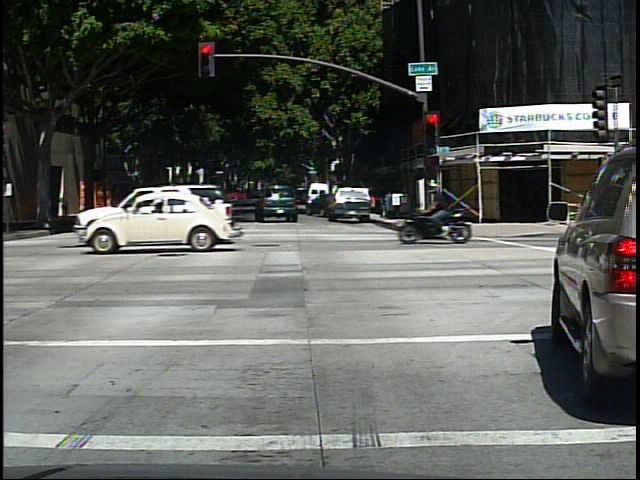person: (434, 177, 473, 238), (60, 191, 72, 224)
